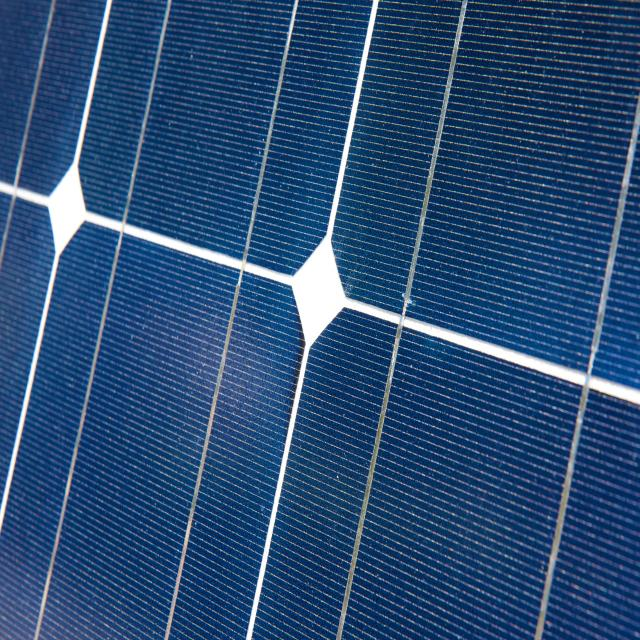clean-solar-panel: (594, 134, 640, 388)
